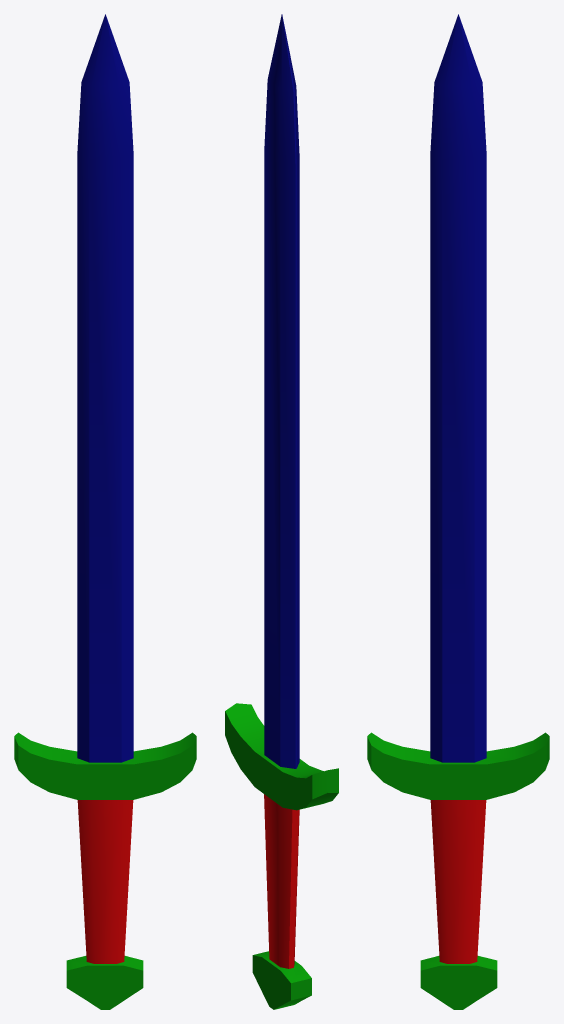
The model's file is Sword right size.fbx.
3 views of the same model, side by side, from view 1: azimuth 90°, elevation 25°; view 2: azimuth 210°, elevation 25°; view 3: azimuth 270°, elevation 25° (orthographic).
Parts seen in each view (by area): view 1: Cube.001; view 2: Cube.001; view 3: Cube.001.
Part boxes in pixels (x1,y1,x2,y2): Cube.001: (14, 14, 196, 1009); Cube.001: (225, 14, 338, 1009); Cube.001: (367, 14, 549, 1009).
Size of the model in its own units: 3.01 by 108 by 17.98.
